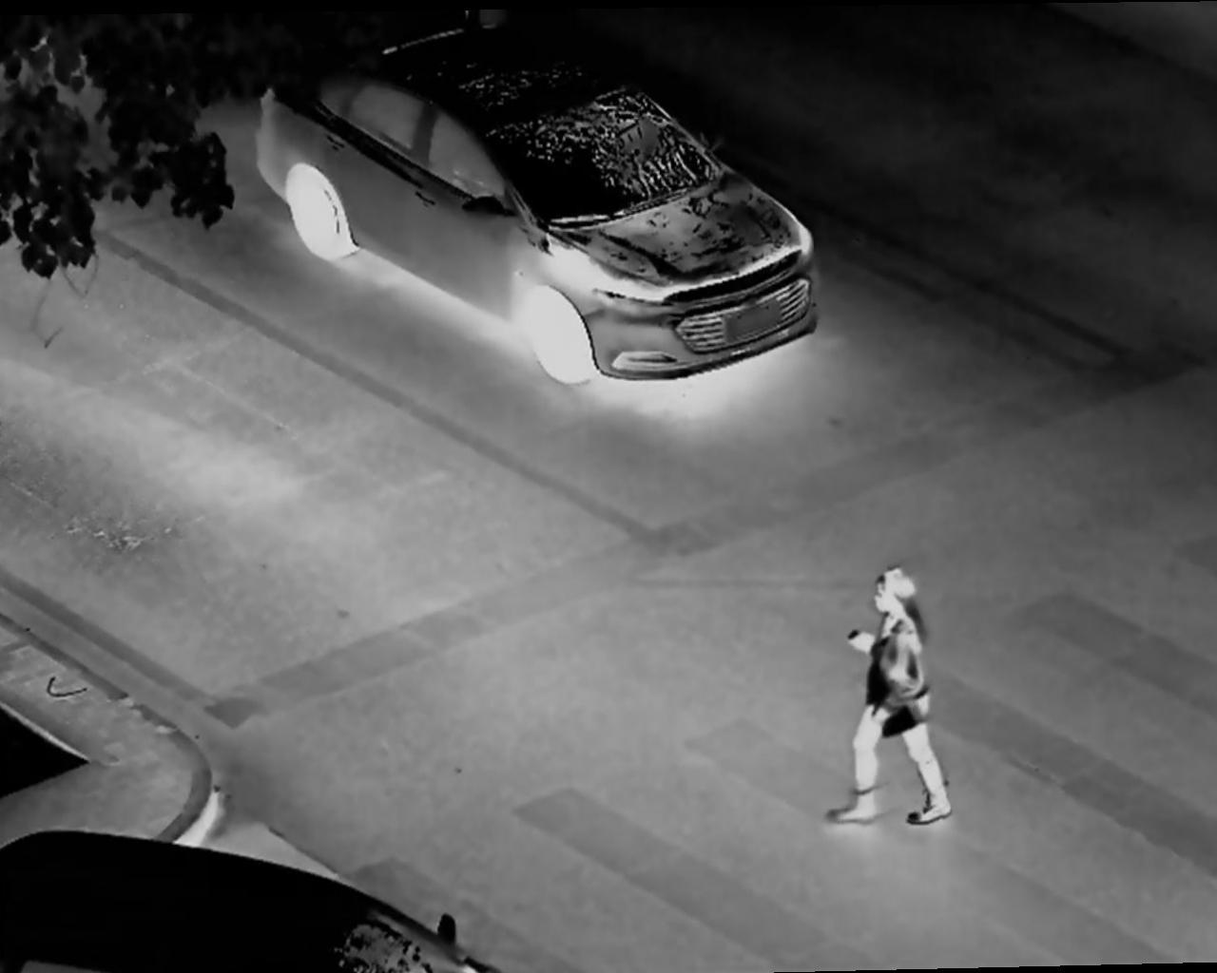person: (829, 559, 972, 829)
